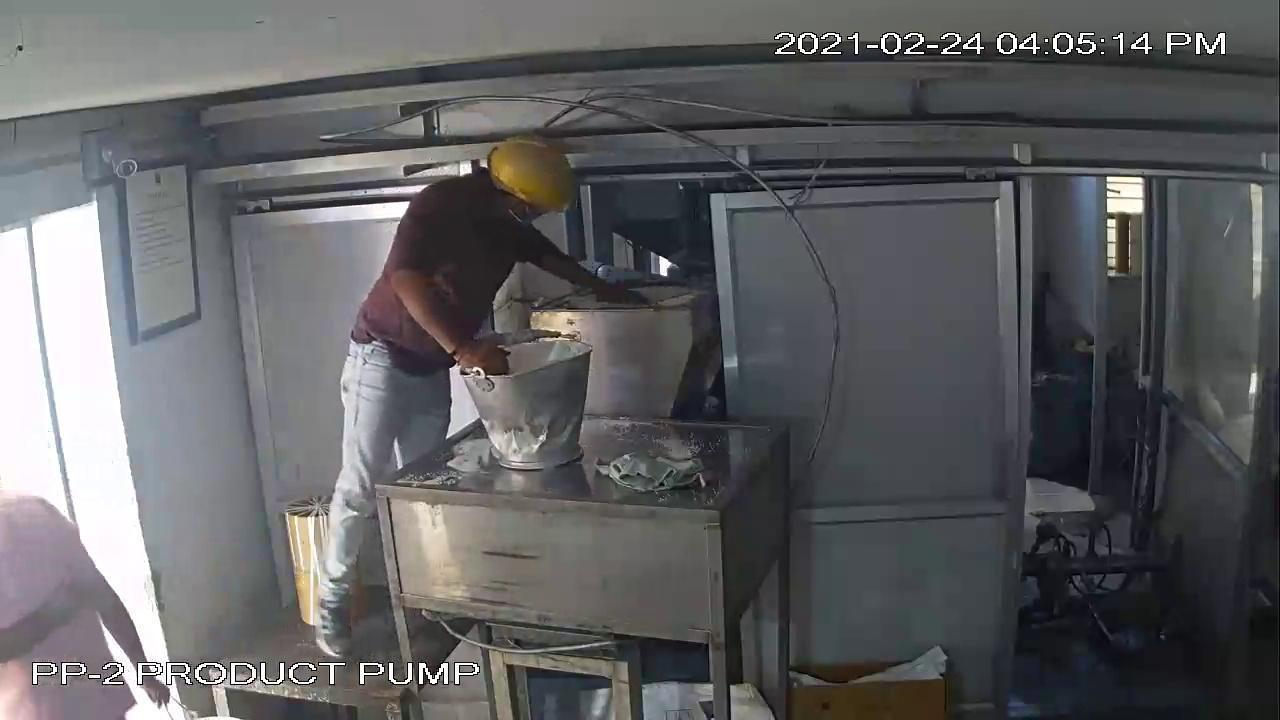helmet: (479, 128, 585, 216)
